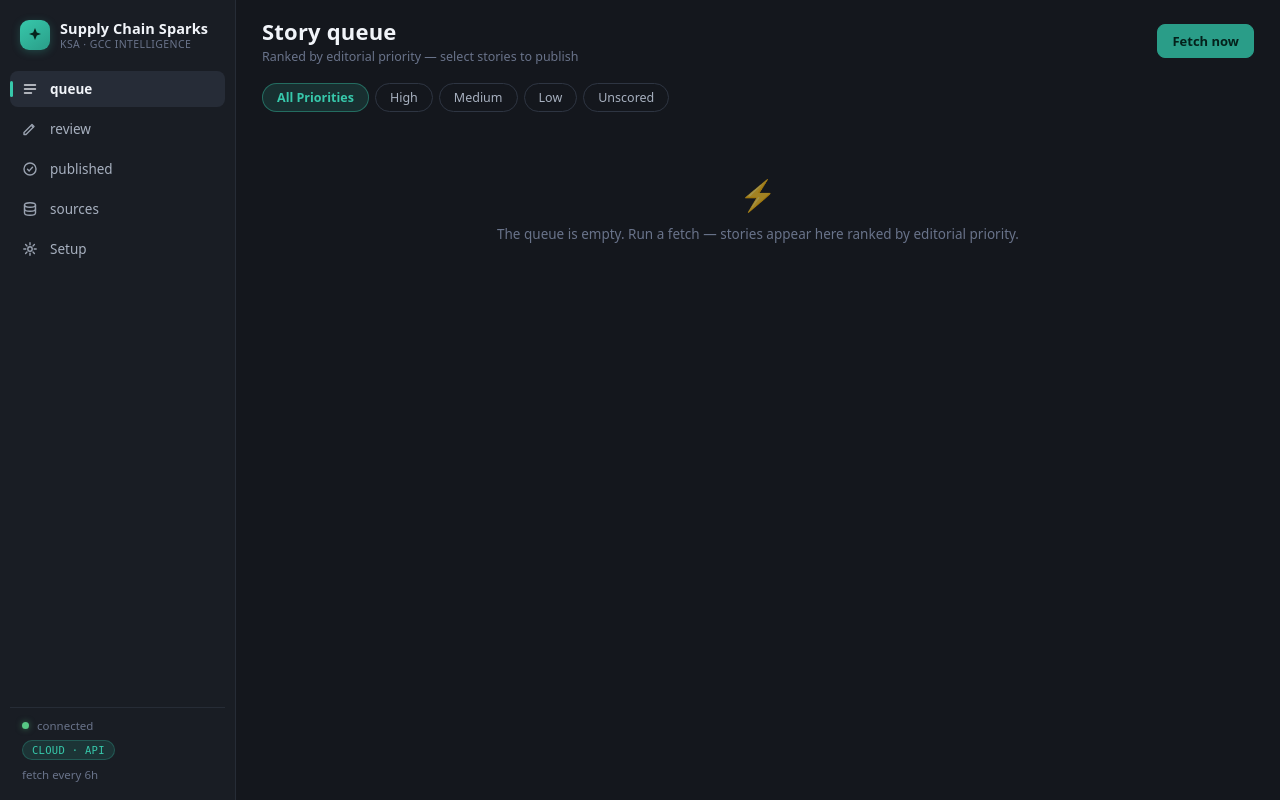
fetch now surfaces job errors instead of failing silently
The width and height of the screenshot is (1280, 800).
Expected: the text "queue is empty" is shown, [497,225,1019,243]
Click the button "Fetch now". click: (1206, 40)
box: [1158,24,1254,58]
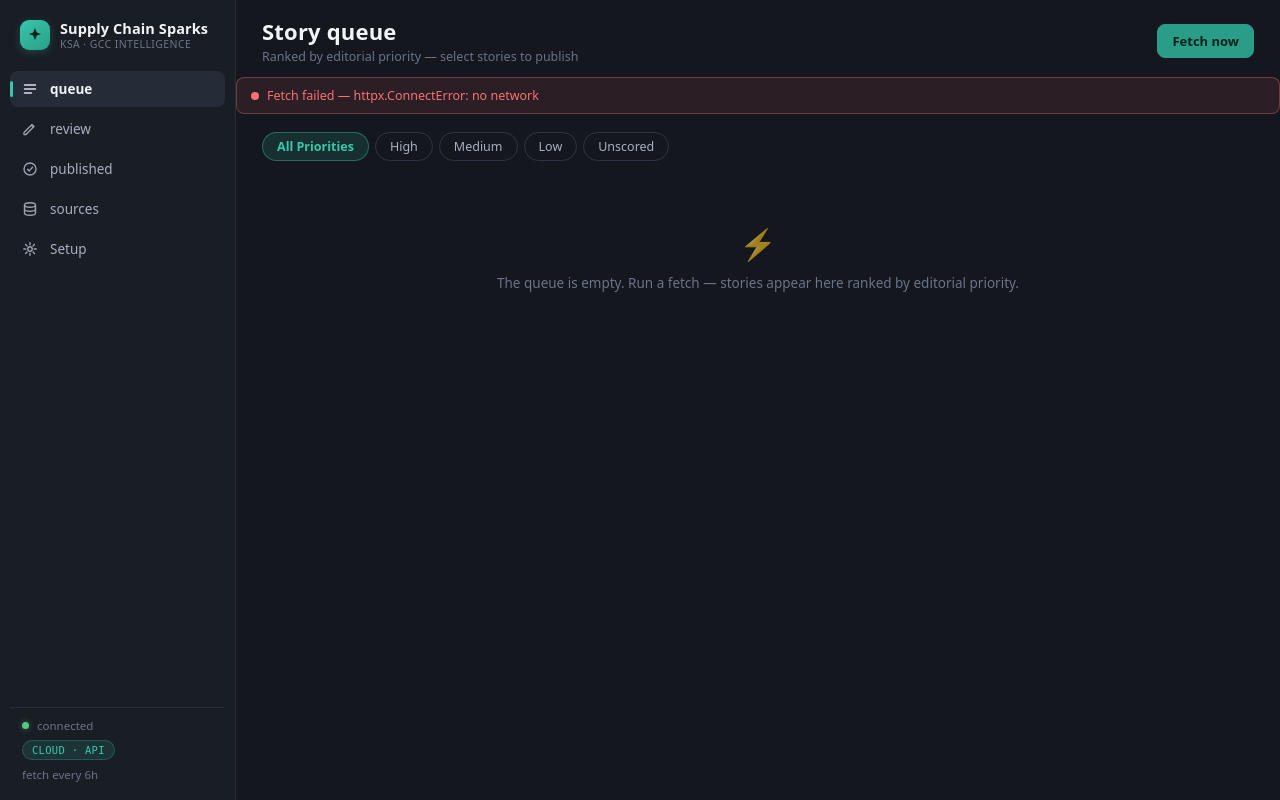
Expected: the text "Fetch failed — httpx.ConnectError: no network" is shown, [236,77,1279,114]
